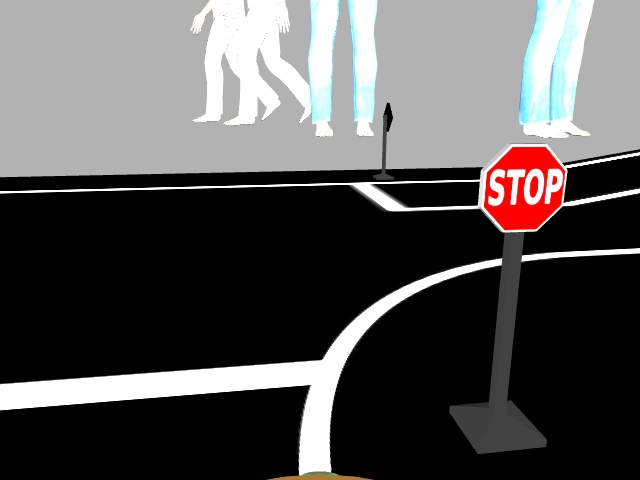Stop: (479, 143, 566, 230)
